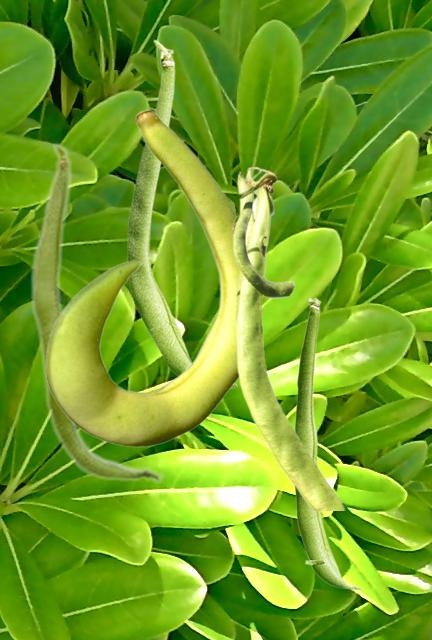french_bean: (45, 109, 238, 446), (28, 141, 164, 484), (231, 166, 344, 509), (127, 39, 237, 389), (294, 297, 362, 589)
